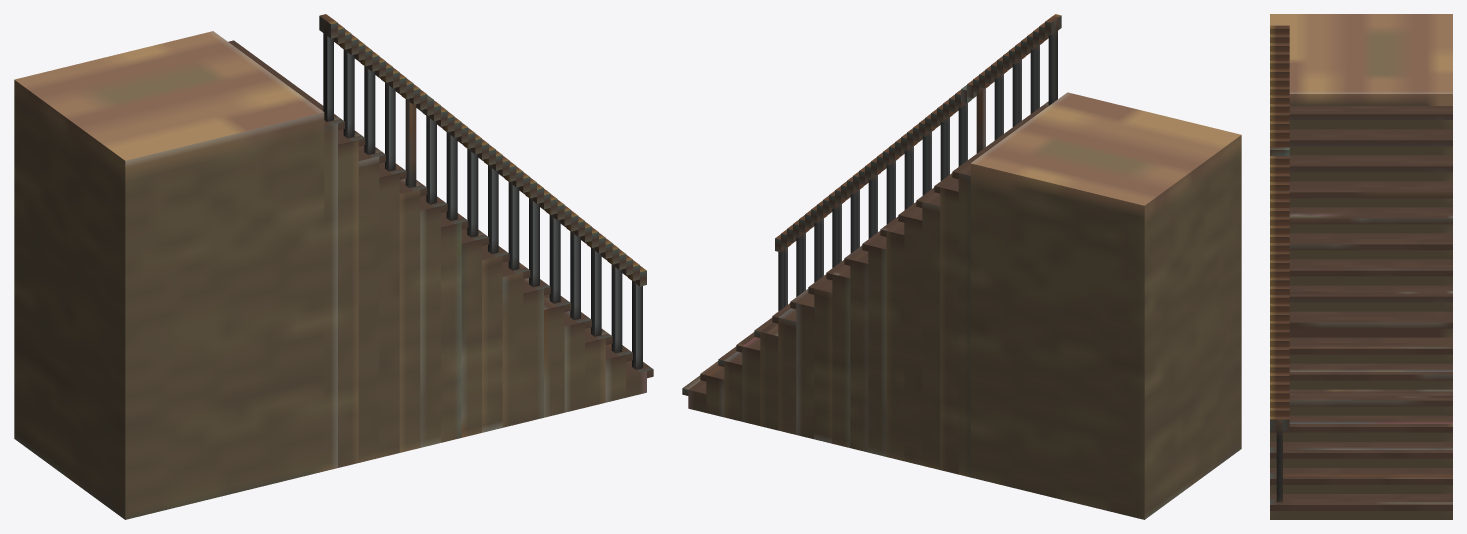
File: Stairwell_01.obj
3 renders of one model, left to right at view 1: azimuth 30°, elevation 25°; view 2: azimuth 150°, elevation 25°; view 3: azimuth 270°, elevation 25°, orthographic. The views are drawn at different scales.
Parts seen in each view (by area): view 1: Stairwell_01; view 2: Stairwell_01; view 3: Stairwell_01.
Boxes of the visible parts, x1,y1,x2,y2 form: Stairwell_01: (14,14,653,519); Stairwell_01: (682,14,1241,519); Stairwell_01: (1270,14,1452,519).
Bounding box in the file's own units: 3.85 × 3.1 × 1.4.
